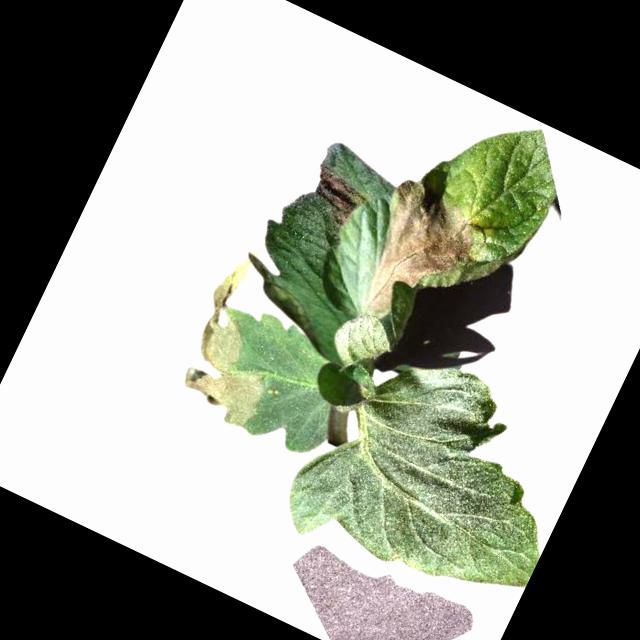Late_blight: (344, 174, 491, 339), (164, 274, 305, 433), (300, 163, 374, 232)
healthy: (272, 323, 598, 632)
